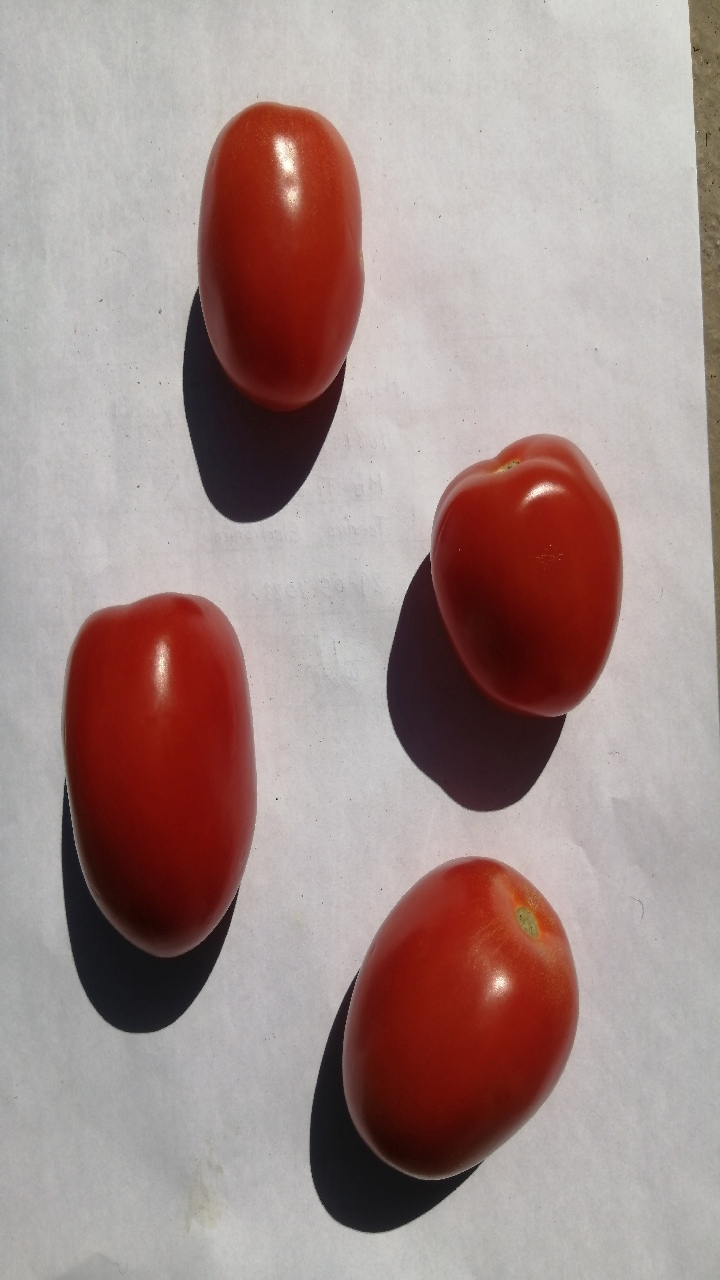tomateRojo: (317, 843, 614, 1191), (46, 568, 269, 975), (411, 406, 646, 729), (169, 74, 371, 423)
